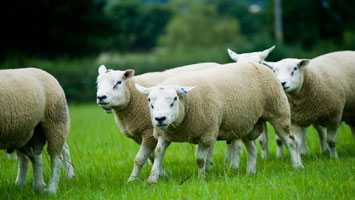sheep: (147, 80, 301, 184), (79, 54, 186, 145), (1, 62, 71, 192), (271, 54, 355, 149)
